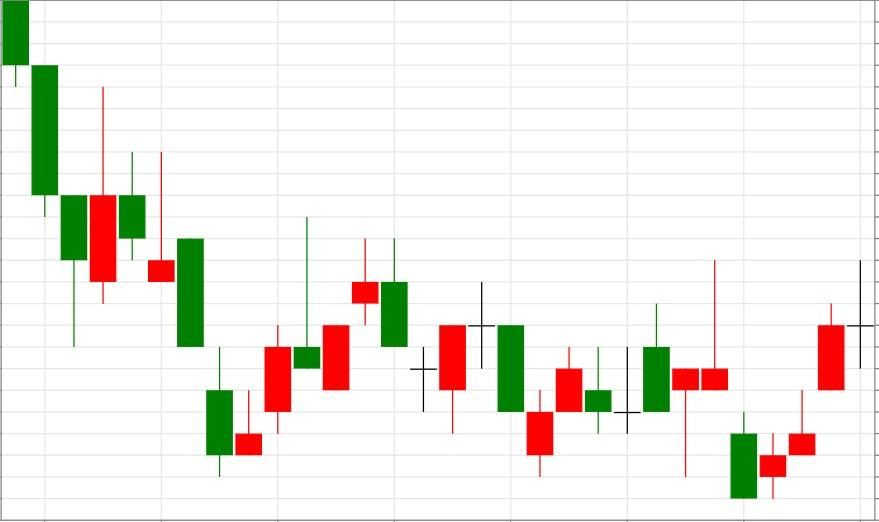bearish_engulfing_fall: (234, 217, 409, 456)
inverse_hammer_rise: (0, 0, 263, 477)
three_white_soldiers_rise: (670, 258, 846, 499)
